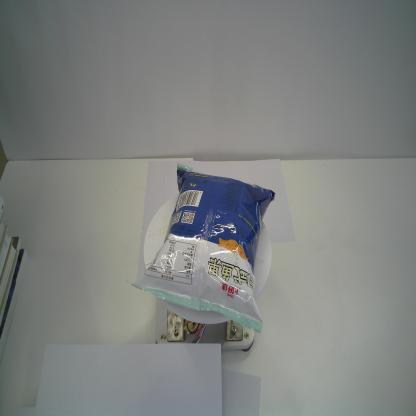Puffed Food: (129, 158, 278, 335)
